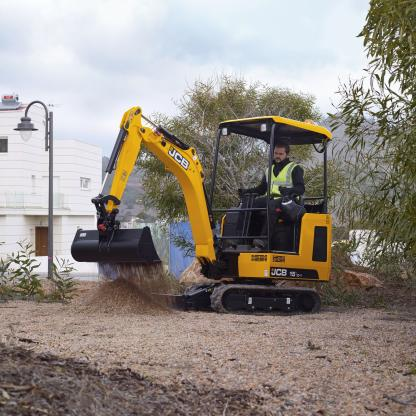excavator: (68, 79, 341, 340)
